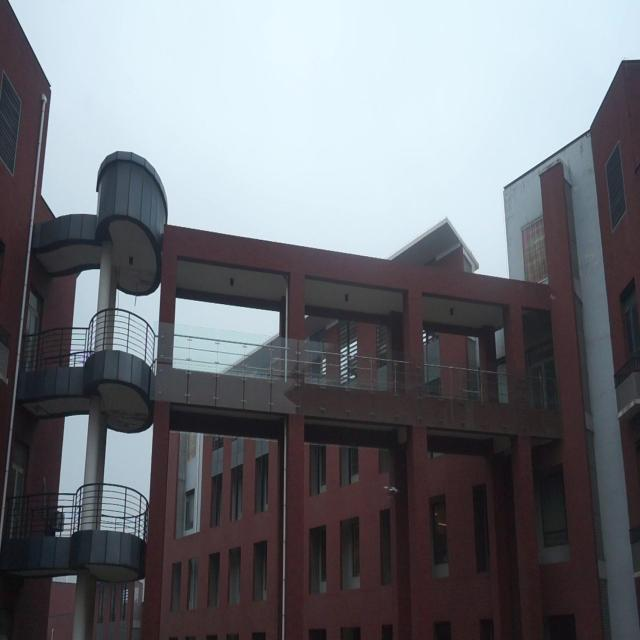drone: (382, 482, 398, 501)
